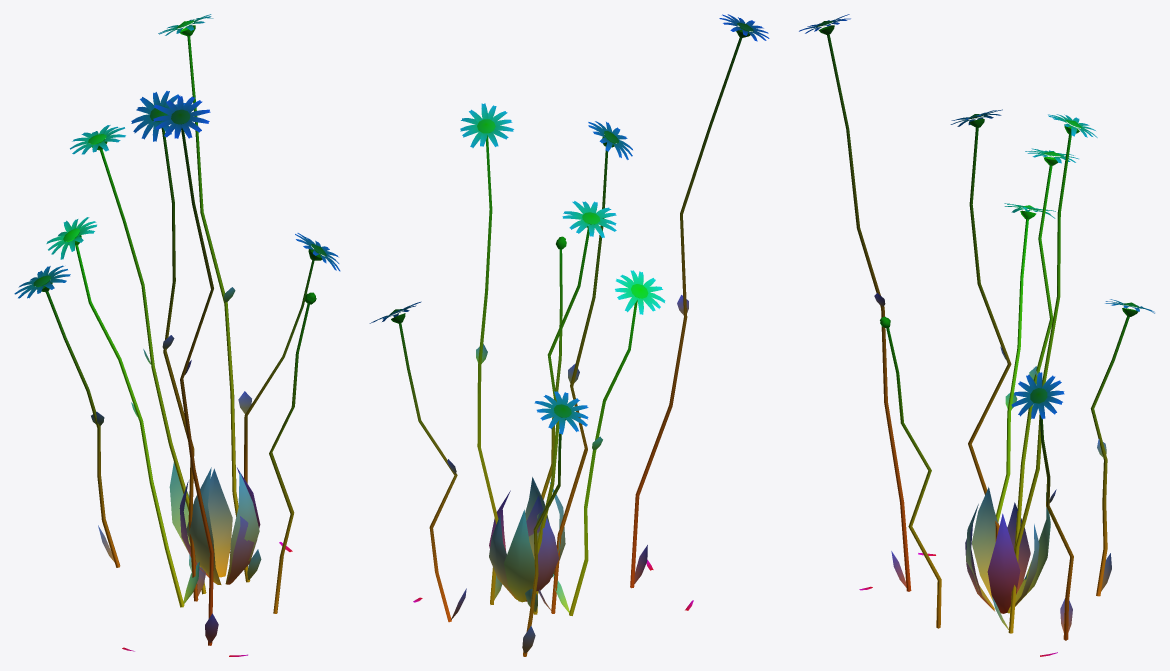
Rendered from SM_Flower_Daisy_A_LOD1.fbx.
3 renders of one model, left to right at view 1: azimuth 30°, elevation 25°; view 2: azimuth 150°, elevation 25°; view 3: azimuth 270°, elevation 25°, orthographic. The views are drawn at different scales.
Visible parts, largest first — view 1: SM_Flower_Daisy_A_LOD1; view 2: SM_Flower_Daisy_A_LOD1; view 3: SM_Flower_Daisy_A_LOD1.
Boxes of the visible parts, x1,y1,x2,y2 form: SM_Flower_Daisy_A_LOD1: (14, 14, 340, 656); SM_Flower_Daisy_A_LOD1: (369, 14, 769, 656); SM_Flower_Daisy_A_LOD1: (799, 14, 1154, 656).
Size of the model in its own units: 0.3137 by 0.5888 by 0.3512.
